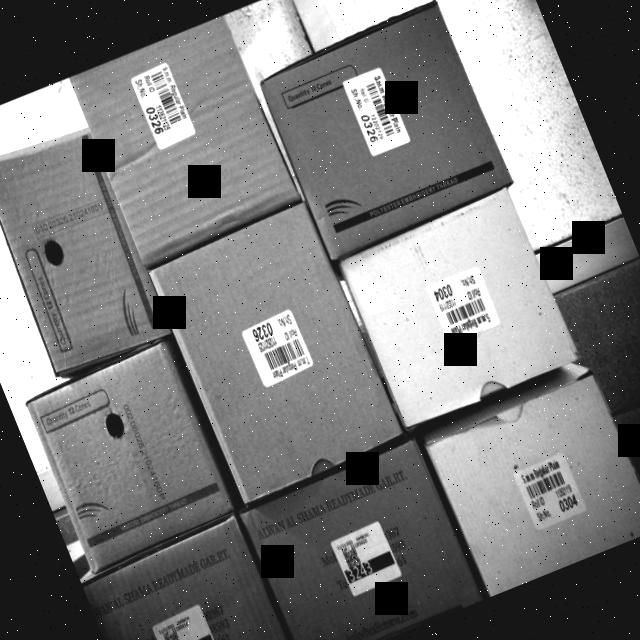box: (145, 201, 403, 504), (256, 0, 514, 262), (66, 12, 306, 268), (338, 185, 584, 430), (235, 436, 480, 640), (424, 368, 640, 595), (22, 342, 232, 566), (0, 117, 175, 384), (79, 516, 299, 640)
